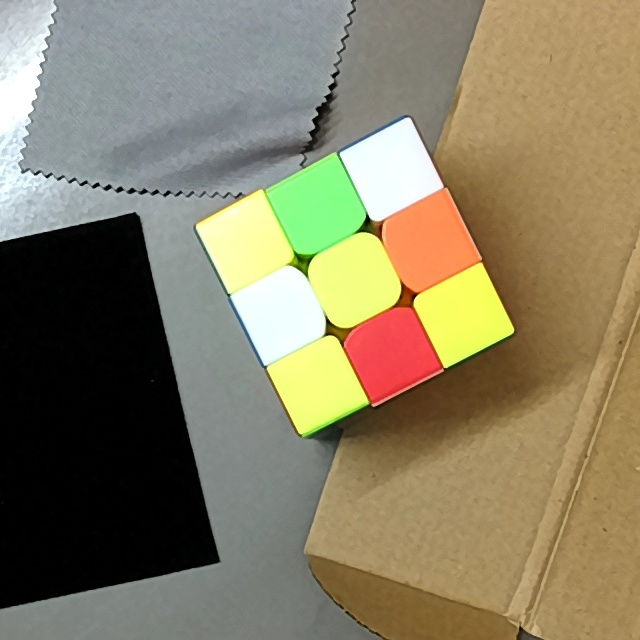tile: (290, 177, 348, 235), (403, 213, 457, 272), (252, 284, 306, 341), (438, 286, 488, 345), (325, 253, 378, 308), (295, 353, 345, 410), (218, 220, 272, 271), (369, 323, 419, 376), (367, 146, 416, 195)
